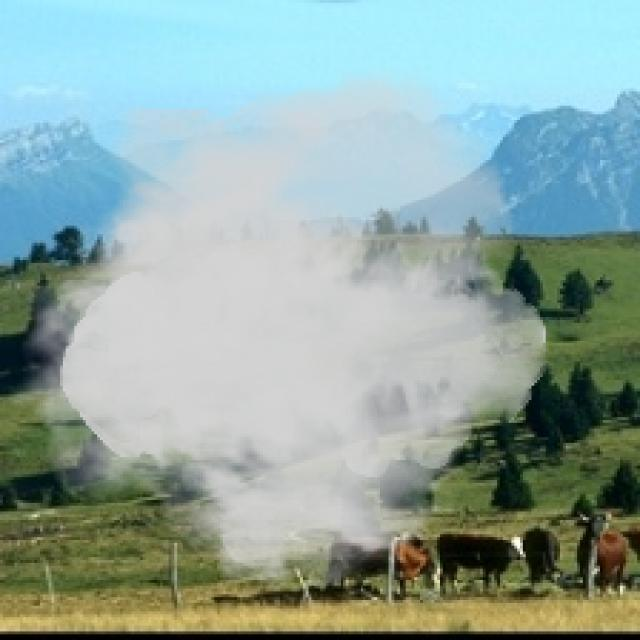Smoke: (6, 62, 548, 594)
